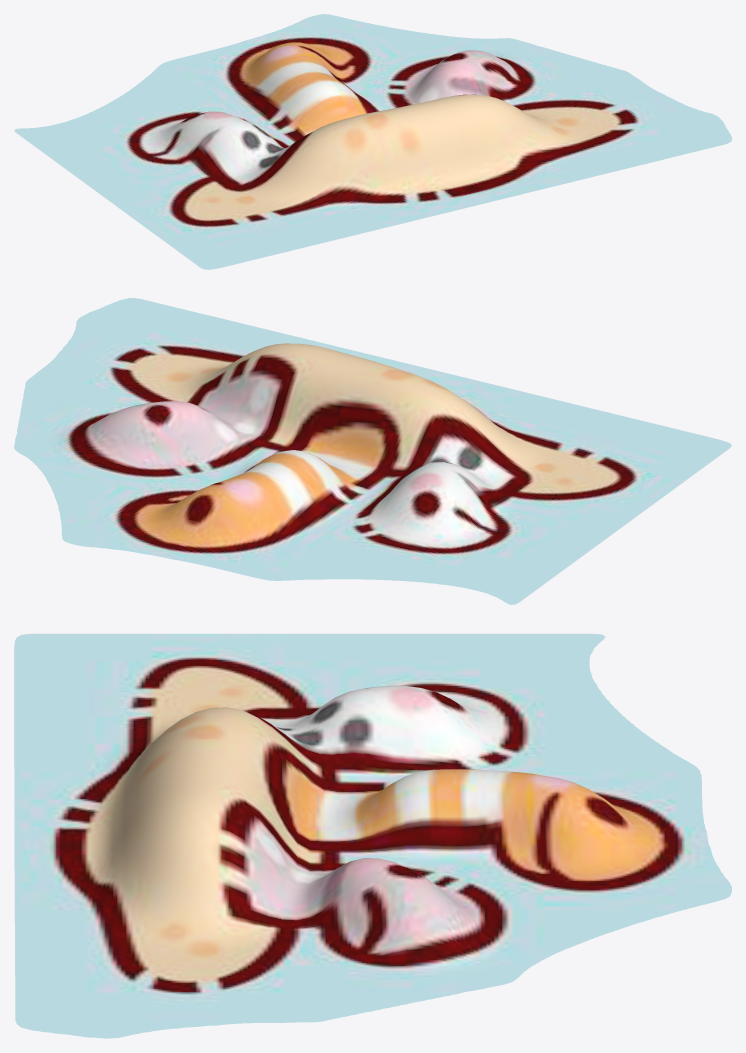
Rendered from 泡泡贴纸13.fbx.
The picture shows the model from 3 angles, top to bottom: view 1: azimuth 30°, elevation 25°; view 2: azimuth 150°, elevation 25°; view 3: azimuth 270°, elevation 25°; orthographic projection. The views are drawn at different scales.
Visible parts, largest first — view 1: 平面.001; view 2: 平面.001; view 3: 平面.001.
Part boxes in pixels (box(x1,y1,x2,y2)): 平面.001: box(14, 14, 731, 269); 平面.001: box(14, 298, 731, 604); 平面.001: box(14, 633, 731, 1038).
Bounding box in the file's own units: 215 × 19.02 × 161.
